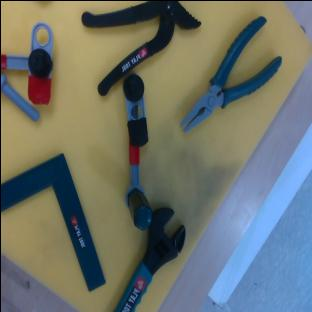non_pass: (118, 73, 152, 230)
pass: (0, 21, 52, 104)
